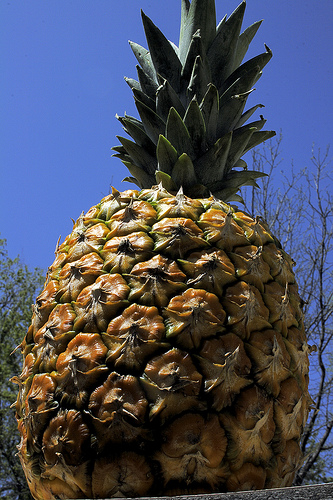pineapple: (8, 0, 307, 498)
